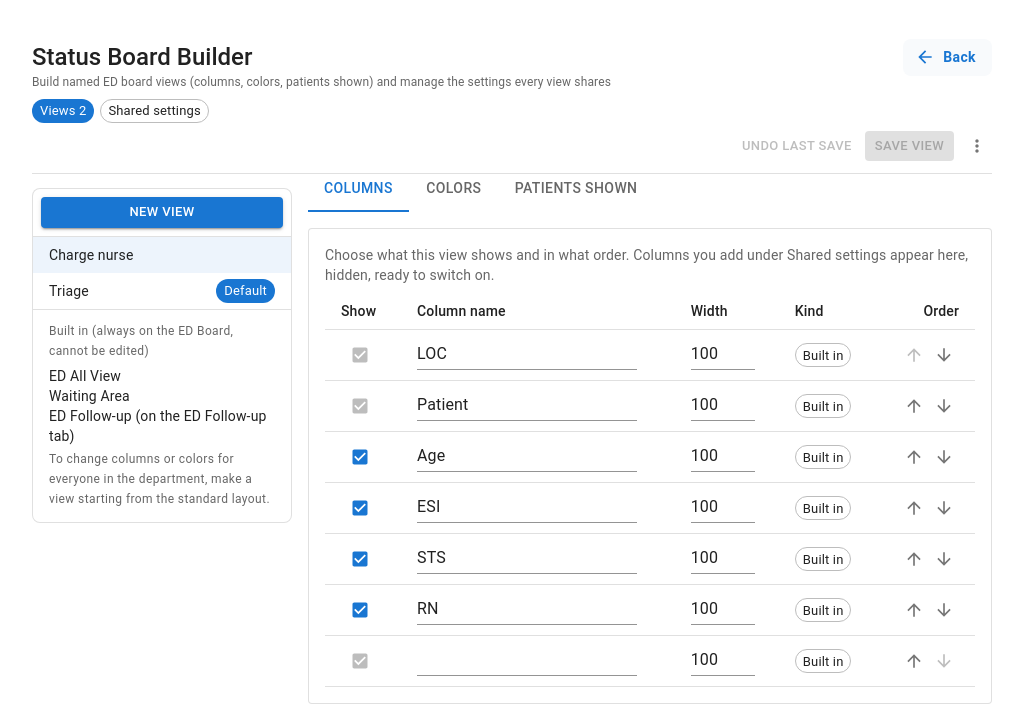
conditions on the patient › the preview follows the conditions
The image size is (1024, 725).
Expected: the button with test id "view-item-1" is shown, [33, 237, 291, 273]
What coordinates should you click on to do the following:
click the tab "Patients shown"
I would click on:
 (576, 188)
Its box is [499, 164, 653, 212].
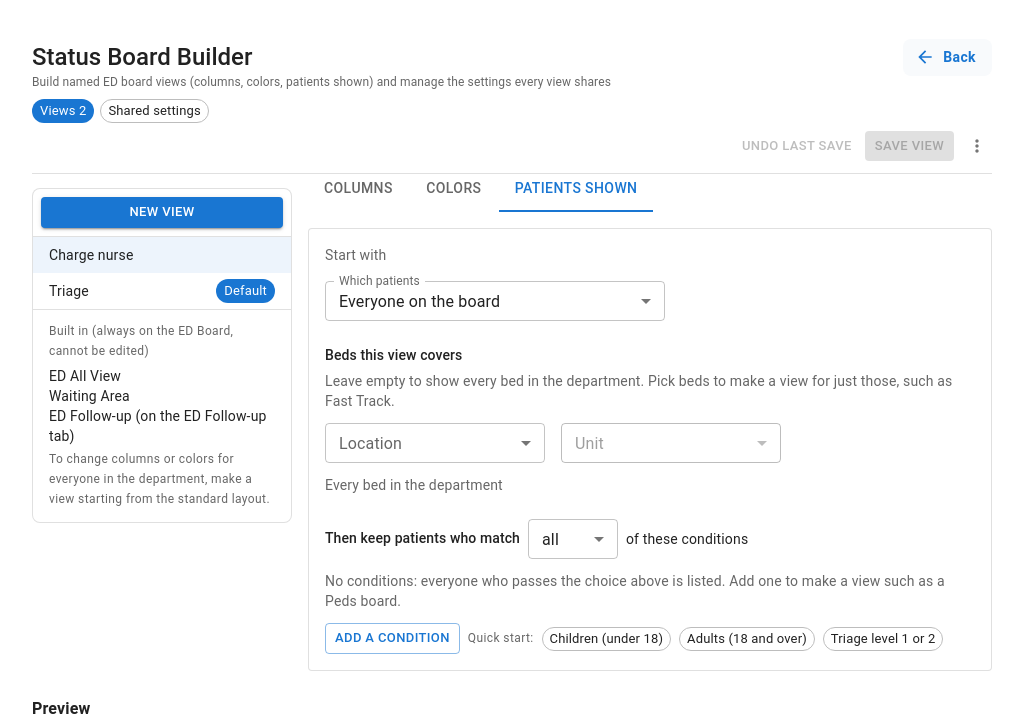
What coordinates should you click on to do the following:
click the button with test id "preset-children"
I would click on:
 (606, 639)
Its box is [542, 627, 671, 651].
(page scrolled)
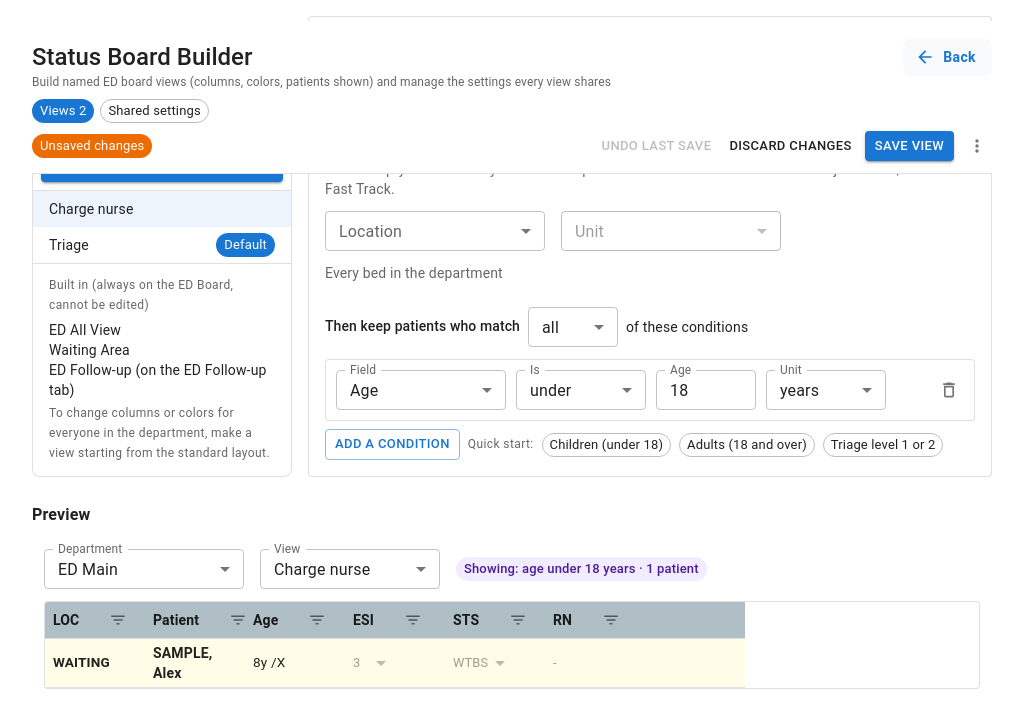
Expected: the text "SAMPLE, Alex" is shown, [153, 645, 212, 681]
Now the element with test id "criteria-chip" shows "age under 18 years", box [464, 561, 699, 576]
